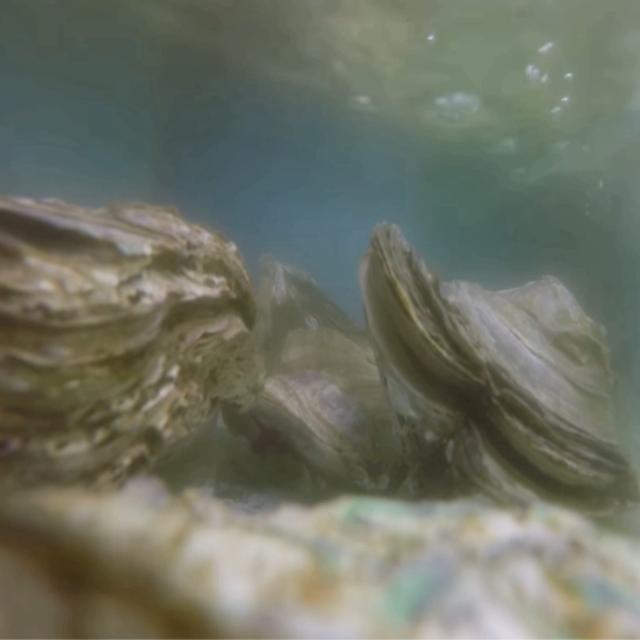Oyster-Closed: (0, 195, 259, 527), (261, 326, 417, 500)
Oyster-Indeterminate: (0, 481, 640, 640)
Oyster-Open: (358, 221, 640, 536)
